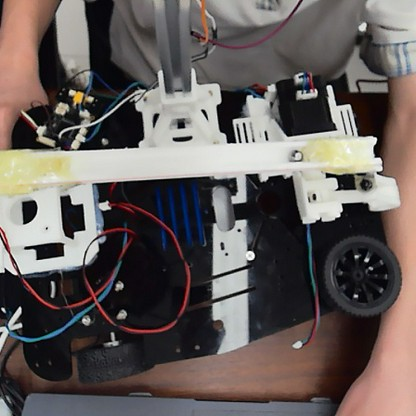ironball: (287, 145, 303, 161)
